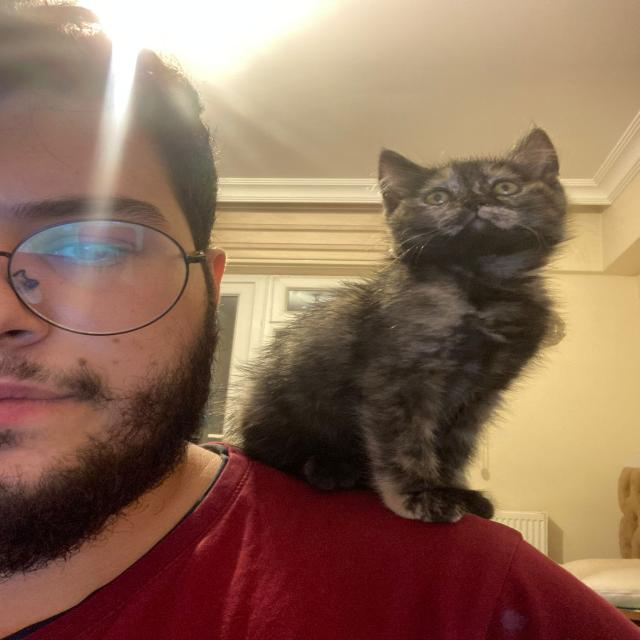authorized: (233, 123, 576, 525)
